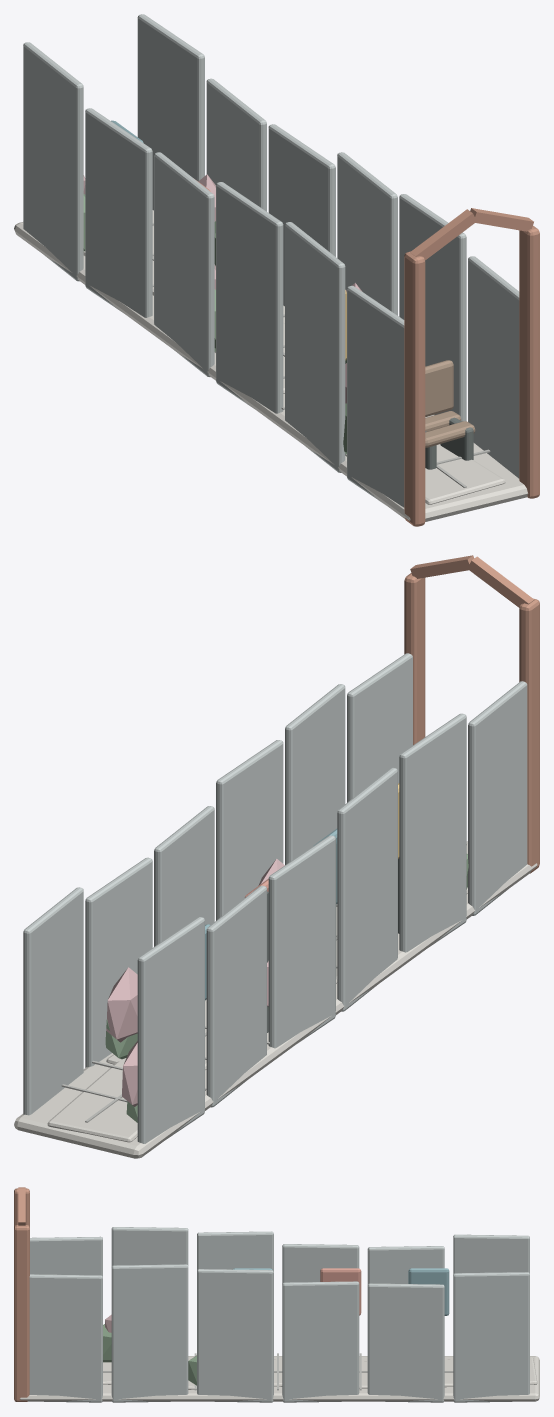
File: xinhua-pocket-park.glb
The picture shows the model from 3 angles, top to bottom: view 1: azimuth 30°, elevation 25°; view 2: azimuth 150°, elevation 25°; view 3: azimuth 270°, elevation 25°; orthographic projection. The views are drawn at different scales.
Visible parts, largest first — view 1: xinhua-pocket-park; view 2: xinhua-pocket-park; view 3: xinhua-pocket-park.
Part boxes in pixels (box(x1,y1,x2,y2)): xinhua-pocket-park: box(14, 14, 539, 526); xinhua-pocket-park: box(14, 555, 539, 1158); xinhua-pocket-park: box(14, 1187, 539, 1402).
Size of the model in its own units: 1.7 by 3.78 by 9.24.
